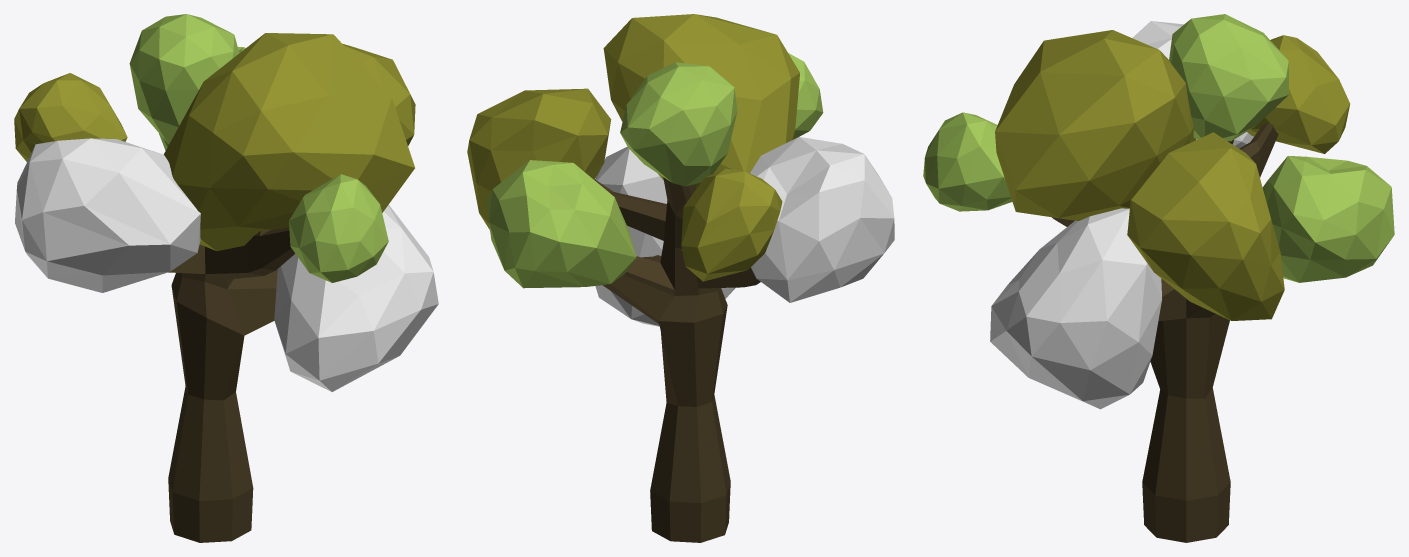
The model's file is TreeBig.fbx.
3 renders of one model, left to right at view 1: azimuth 30°, elevation 25°; view 2: azimuth 150°, elevation 25°; view 3: azimuth 270°, elevation 25°, orthographic. The views are drawn at different scales.
Visible parts, largest first — view 1: TreeBig; view 2: TreeBig; view 3: TreeBig.
Boxes of the visible parts, x1,y1,x2,y2 form: TreeBig: (14, 14, 438, 542); TreeBig: (467, 14, 894, 542); TreeBig: (923, 14, 1394, 542).
Bounding box in the file's own units: 431 × 505 × 428.
